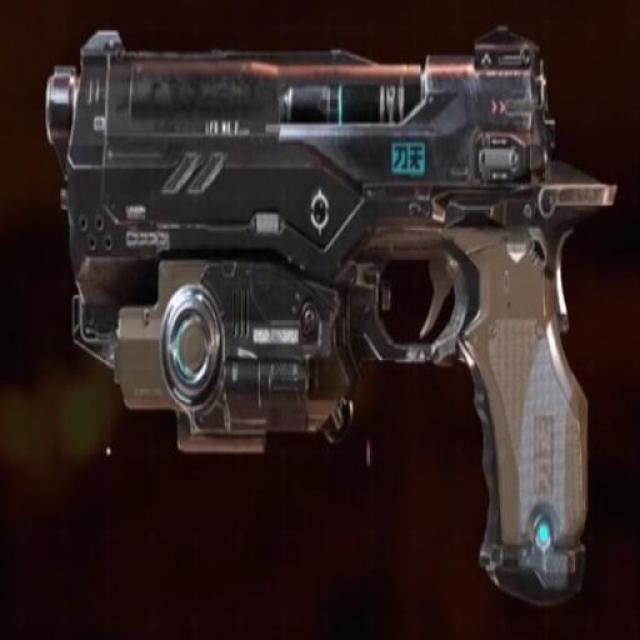pistol: (41, 26, 613, 587)
